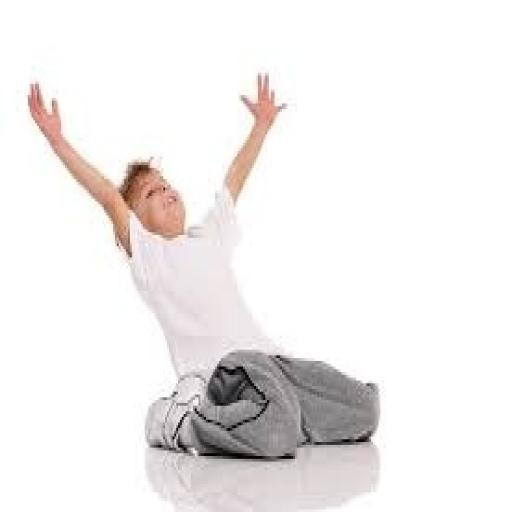dancing: (24, 67, 382, 462)
